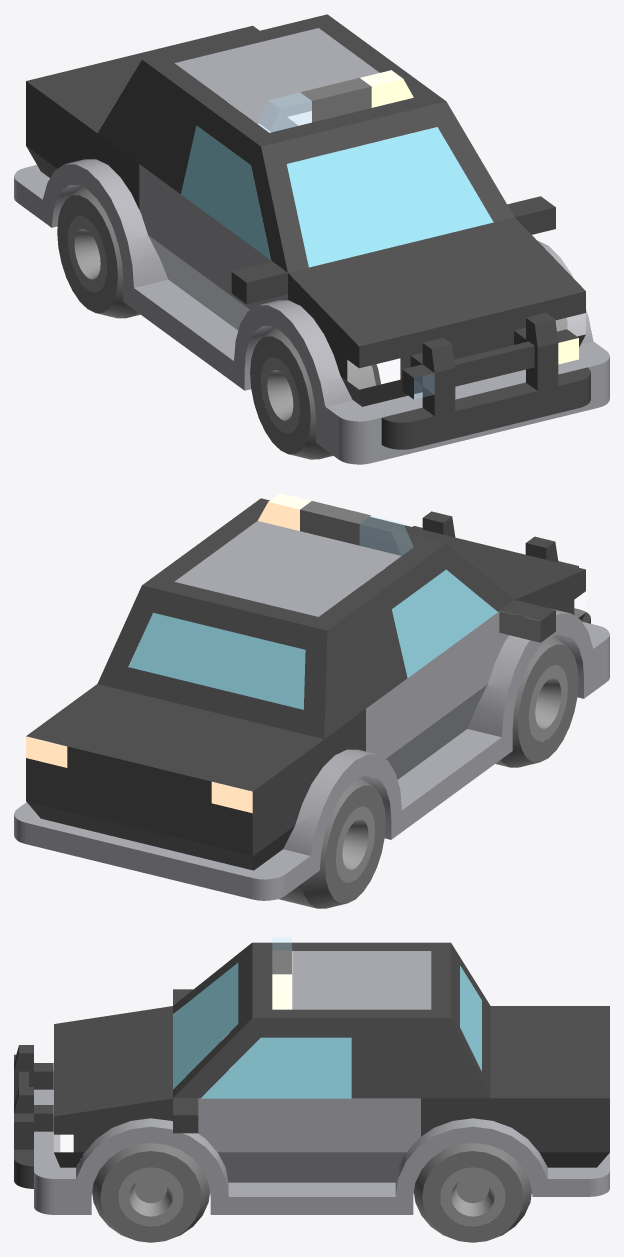
Rendered from kenney_police_car.glb.
3 views of the same model, one above another, from view 1: azimuth 30°, elevation 25°; view 2: azimuth 150°, elevation 25°; view 3: azimuth 270°, elevation 25° (orthographic). The views are drawn at different scales.
Visible parts, largest first — view 1: body, grill, wheel_frontRight, wheel_backRight; view 2: body, wheel_backRight, wheel_frontRight, grill; view 3: body, wheel_frontLeft, wheel_backLeft, grill.
Part boxes in pixels (box(x1,y1,x2,y2)): body: box(14, 14, 609, 464); grill: box(381, 312, 590, 449); wheel_frontRight: box(250, 327, 375, 459); wheel_backRight: box(57, 186, 140, 318); body: box(14, 493, 609, 900); wheel_backRight: box(259, 777, 385, 908); wheel_frontRight: box(495, 635, 578, 767); grill: box(413, 511, 590, 623); body: box(34, 937, 609, 1214); wheel_frontLeft: box(92, 1143, 209, 1242); wheel_backLeft: box(414, 1143, 531, 1242); grill: box(14, 1045, 53, 1188).
Size of the model in its own units: 1.5 by 1.3 by 3.
